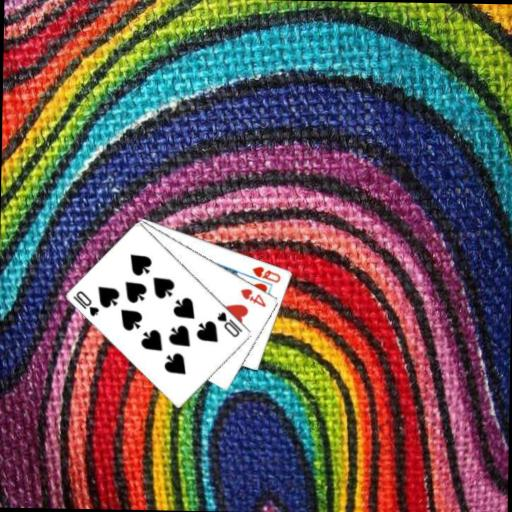10S: (214, 309, 245, 340), (70, 288, 101, 319)
4H: (238, 285, 269, 309)
QH: (249, 263, 282, 284)
